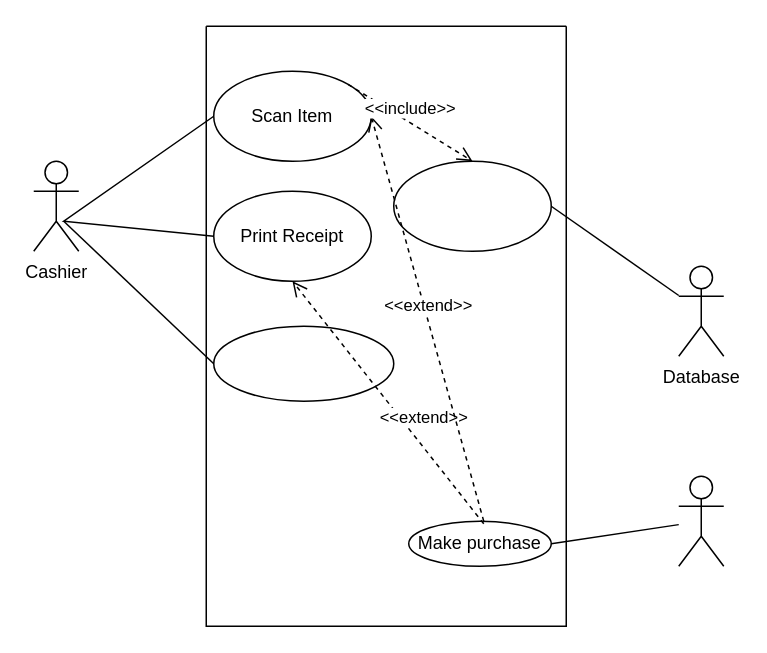
The diagram is 767 pixels wide and 653 high, and some of its shapes have lost their labels. Here are the shapes that lost their labels. From the top down, the centre of each, then its label:
At point 471,205: "Fetch Price, Product name".
At point 303,363: "Remove item from checkout".
At point 700,520: "Customer".
